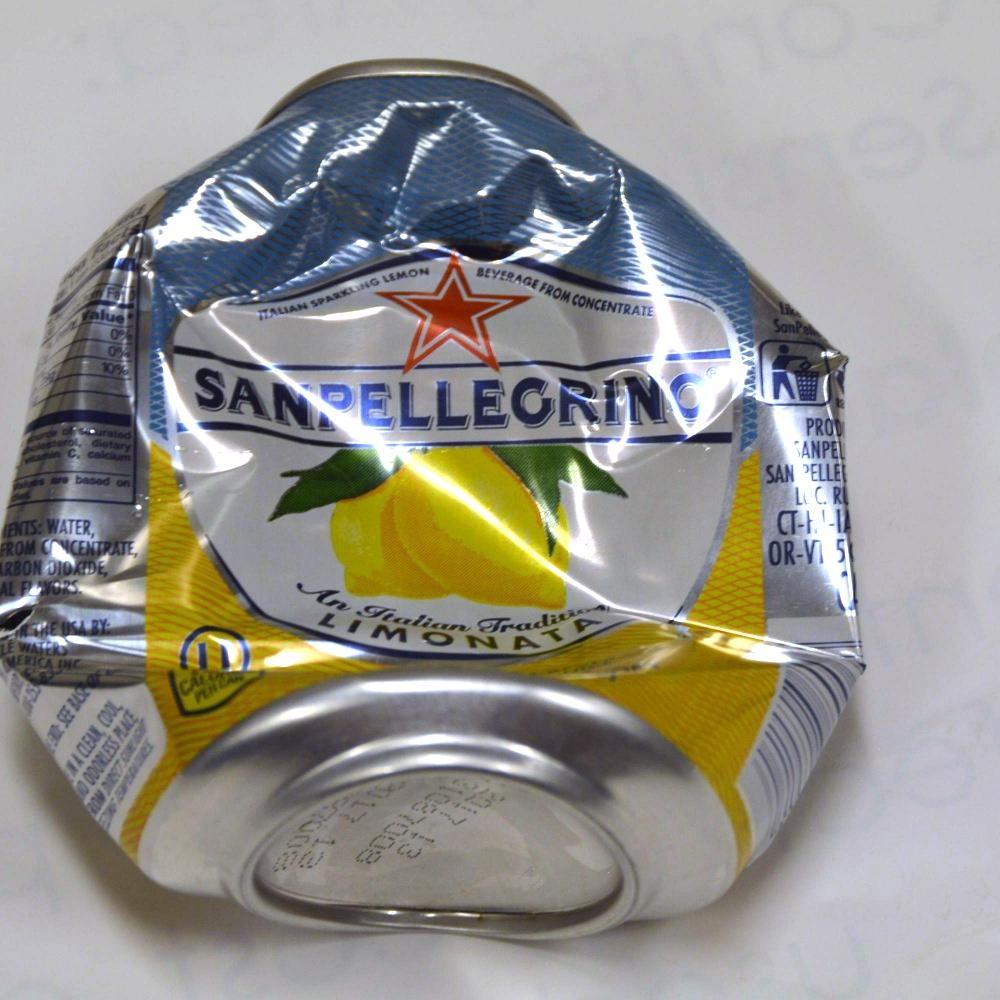Metal: (10, 57, 856, 923)
